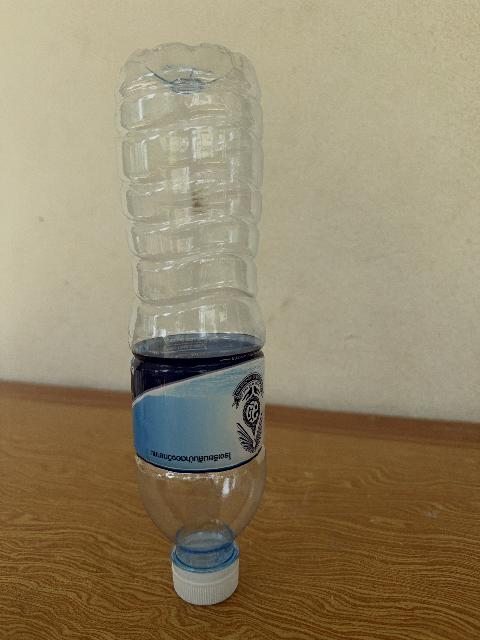bottle: (116, 44, 266, 604)
